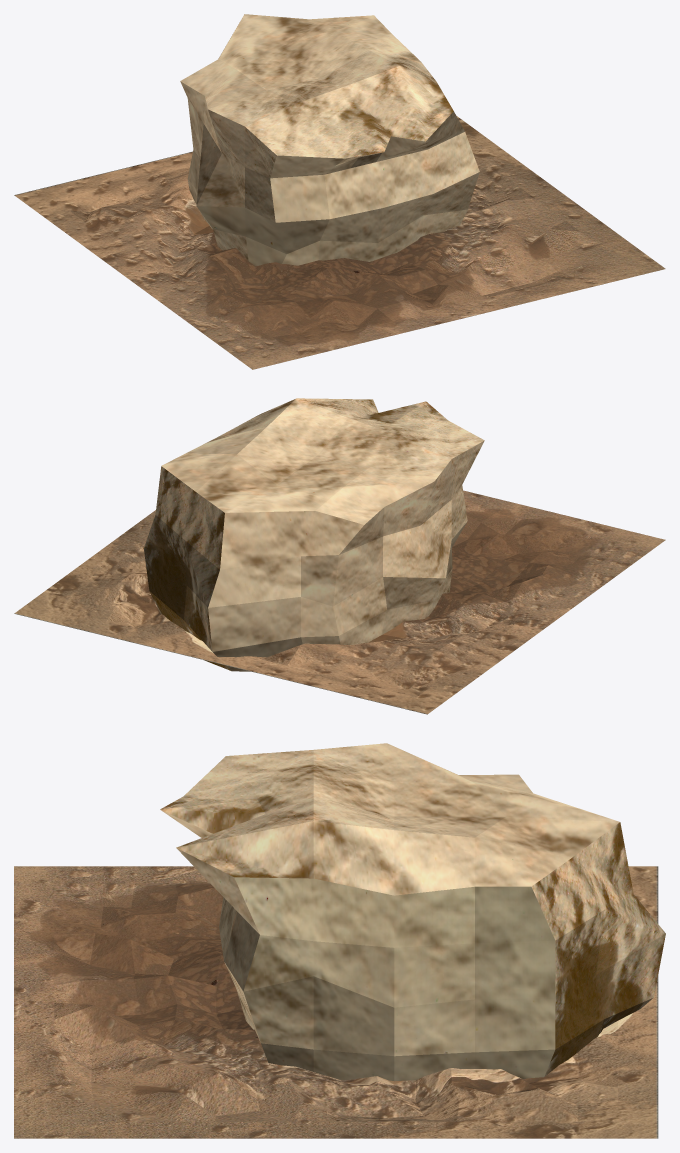
File: ROCHA.glb
3 renders of one model, top to bottom at view 1: azimuth 30°, elevation 25°; view 2: azimuth 150°, elevation 25°; view 3: azimuth 270°, elevation 25°, orthographic. The views are drawn at different scales.
Visible parts, largest first — view 1: ROCHA_Plano, ROCHA_Cubo; view 2: ROCHA_Cubo, ROCHA_Plano; view 3: ROCHA_Cubo, ROCHA_Plano.
Boxes of the visible parts, bbox=[...] form: ROCHA_Plano: bbox=[14, 116, 665, 369]; ROCHA_Cubo: bbox=[180, 14, 479, 266]; ROCHA_Cubo: bbox=[143, 398, 484, 671]; ROCHA_Plano: bbox=[14, 490, 665, 714]; ROCHA_Cubo: bbox=[160, 743, 665, 1081]; ROCHA_Plano: bbox=[14, 866, 658, 1138].
Bounding box in the file's own units: 2 × 0.8546 × 2.02.
Materials: 2 (2 with a texture image).
